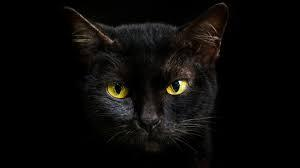Cat: (66, 3, 232, 150)
